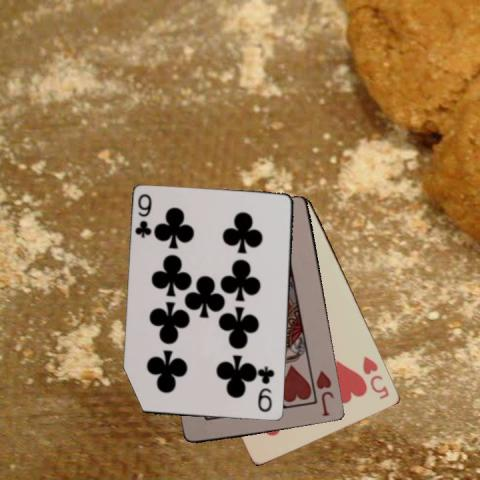5h: (360, 352, 391, 401)
9c: (133, 191, 153, 240), (257, 363, 276, 414)
Jh: (314, 368, 336, 418)
